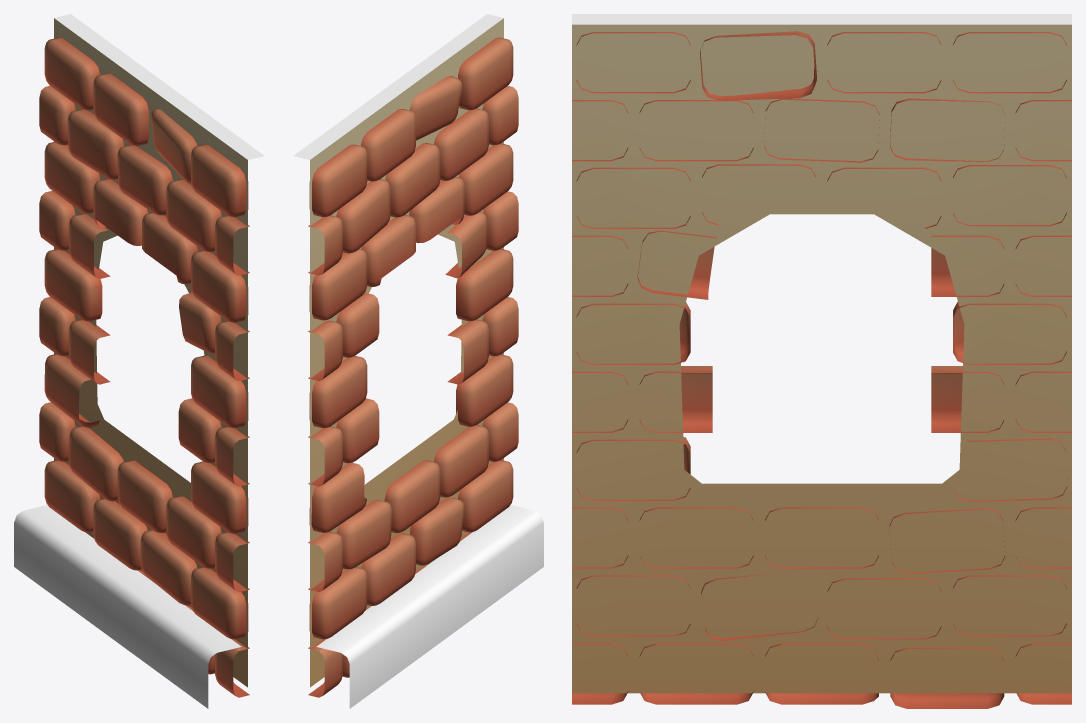
File: BrickWallOuterWindow_M.fbx
3 renders of one model, left to right at view 1: azimuth 30°, elevation 25°; view 2: azimuth 150°, elevation 25°; view 3: azimuth 270°, elevation 25°, orthographic. The views are drawn at different scales.
Visible parts, largest first — view 1: BrickWall_Window; view 2: BrickWall_Window; view 3: BrickWall_Window.
Part boxes in pixels (<box>): BrickWall_Window: <box>14,14,264,708</box>; BrickWall_Window: <box>293,14,543,708</box>; BrickWall_Window: <box>572,14,1071,708</box>.
Size of the model in its own units: 2 by 3.07 by 0.3375.
